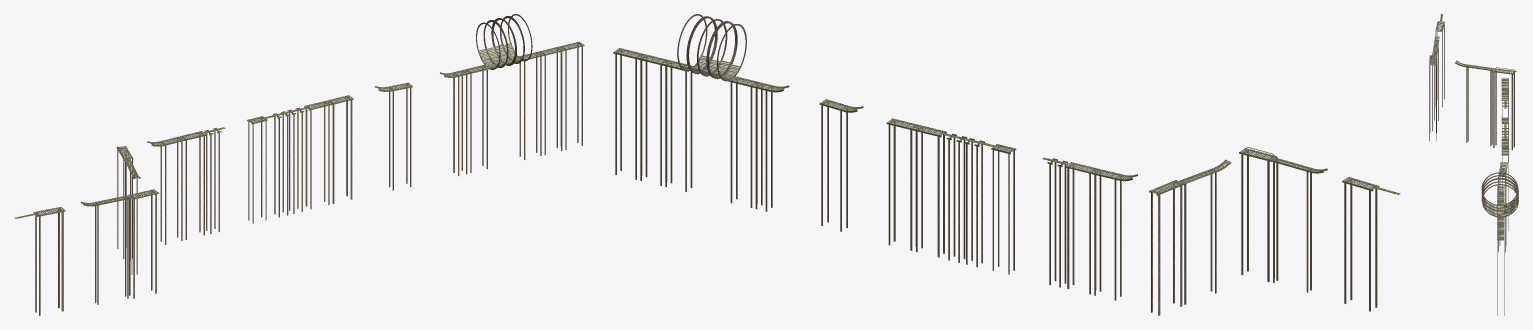
3 views of the same model, side by side, from view 1: azimuth 30°, elevation 25°; view 2: azimuth 150°, elevation 25°; view 3: azimuth 270°, elevation 25° (orthographic). The views are drawn at different scales.
Visible parts, largest first — view 1: Ramp_1, Moving_Ramp, Ramp_wheel__003, Ramp_wheel_, Ramp_wheel__002; view 2: Ramp_1, Moving_Ramp, Ramp_wheel__003, Ramp_wheel__002, Ramp_wheel__001; view 3: Ramp_1, Ramp_wheel__001, Ramp_wheel__002, Ramp_wheel_, Ramp_wheel__003.
Boxes of the visible parts, bbox=[...] form: Ramp_1: bbox=[14, 41, 584, 315]; Moving_Ramp: bbox=[247, 116, 267, 223]; Ramp_wheel__003: bbox=[476, 20, 507, 69]; Ramp_wheel_: bbox=[492, 16, 524, 65]; Ramp_wheel__002: bbox=[484, 18, 515, 66]; Ramp_1: bbox=[613, 48, 1400, 315]; Moving_Ramp: bbox=[991, 144, 1016, 274]; Ramp_wheel__003: bbox=[707, 21, 746, 81]; Ramp_wheel__002: bbox=[697, 19, 736, 77]; Ramp_wheel__001: bbox=[677, 14, 716, 72]; Ramp_1: bbox=[1429, 14, 1516, 315]; Ramp_wheel__001: bbox=[1482, 181, 1518, 217]; Ramp_wheel__002: bbox=[1482, 175, 1518, 210]; Ramp_wheel_: bbox=[1481, 178, 1517, 213]; Ramp_wheel__003: bbox=[1481, 172, 1517, 207].
Size of the model in its own units: 14678 by 3333 by 2471.
